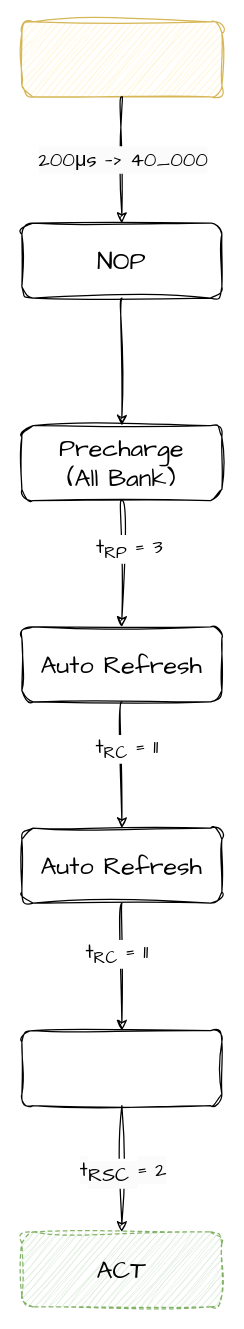
Some shapes in this 244 by 1329 pixel diagram are drawn without their labels. The centre of each missing label's shape, as x and y in pixels:
"Mode Set" belongs at point 121,1067.
"Power Up" belongs at point 121,59.
